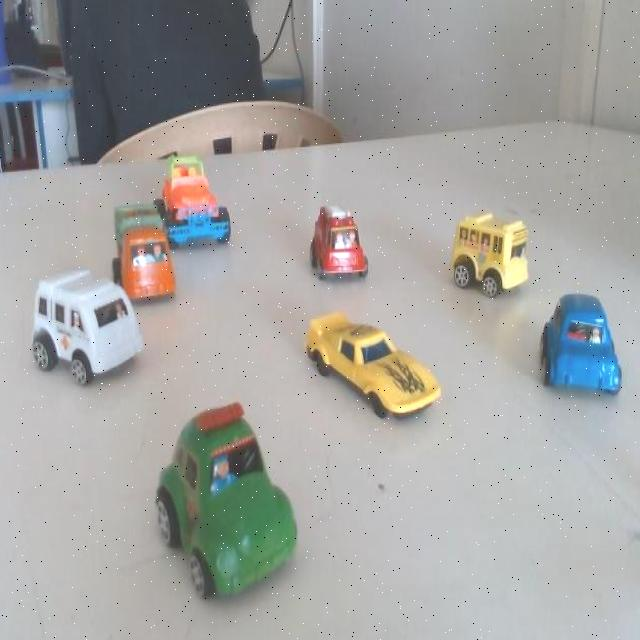car: (143, 404, 308, 601), (28, 249, 154, 406), (306, 304, 436, 424), (541, 290, 629, 405), (442, 208, 530, 310), (299, 193, 372, 299), (162, 147, 239, 247), (111, 194, 175, 304)
